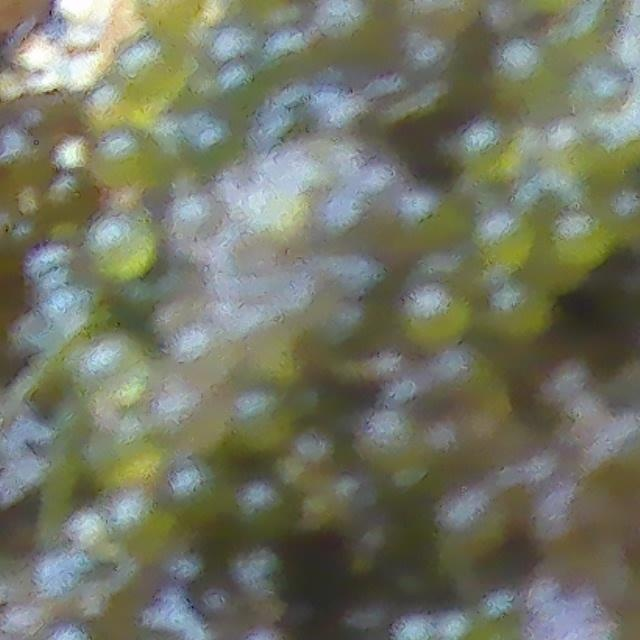SeaGrape: (90, 216, 153, 280), (408, 274, 462, 339), (496, 287, 555, 343), (494, 205, 538, 265), (119, 40, 163, 86)
